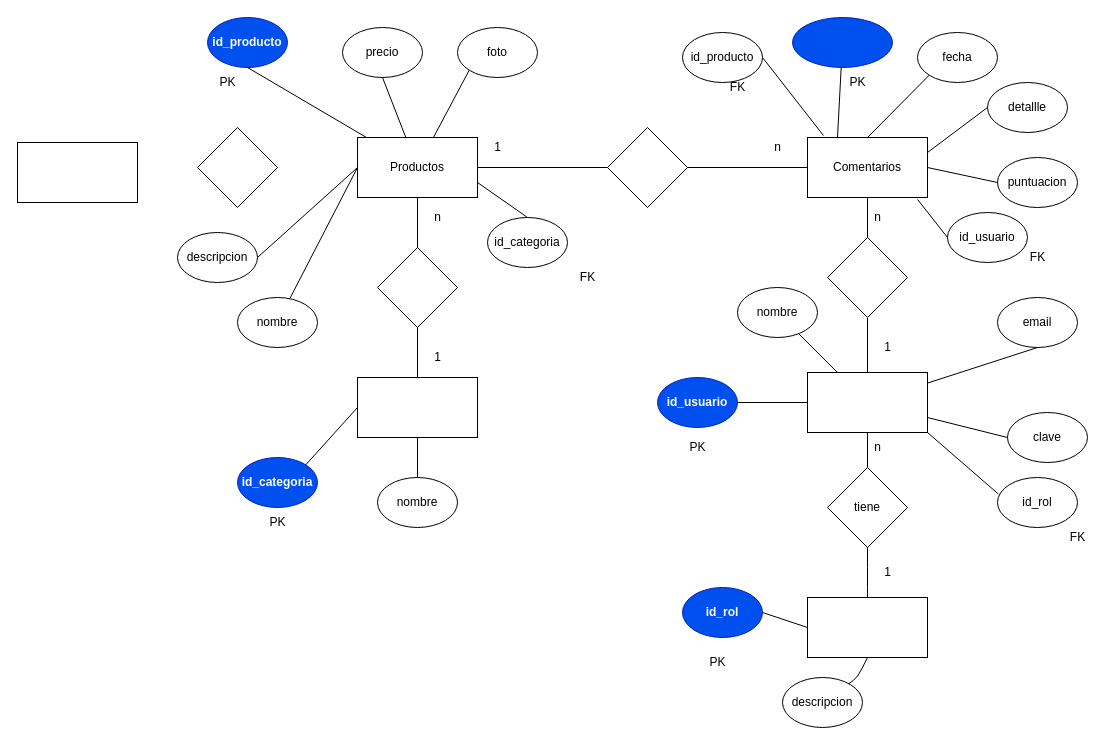
This 1115x745 diagram has some shape labels left out. Here are the shapes that lost their labels. From the top down, the centre of each, then its label:
At (x=842, y=42): "id_comentario".
At (x=77, y=172): "Fotos".
At (x=647, y=167): "Recibe".
At (x=417, y=287): "pertenece".
At (x=867, y=277): "Crea".
At (x=417, y=407): "Categorias".
At (x=867, y=402): "Usuarios".
At (x=867, y=627): "Roles".
